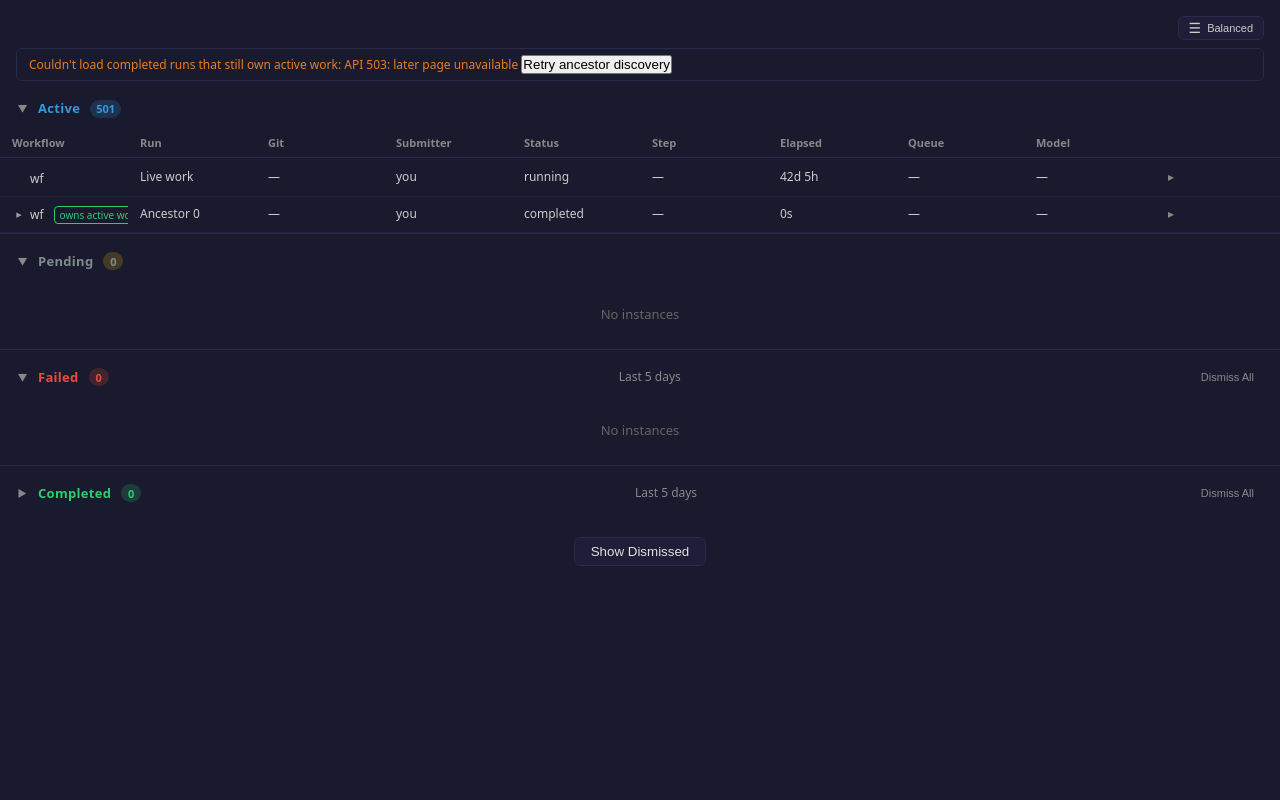
Test: QueueView — completed ancestors that own active independent work stay discoverable (P4-T10) › keeps discovered rows and ordinary work when a later page fails, then retries discovery
Expected: the message with test id "ancestor-warning" shows "later page unavailable", [29,56,518,73]
Click the button "Retry ancestor discovery" at (597, 64), box [521,55,672,74]
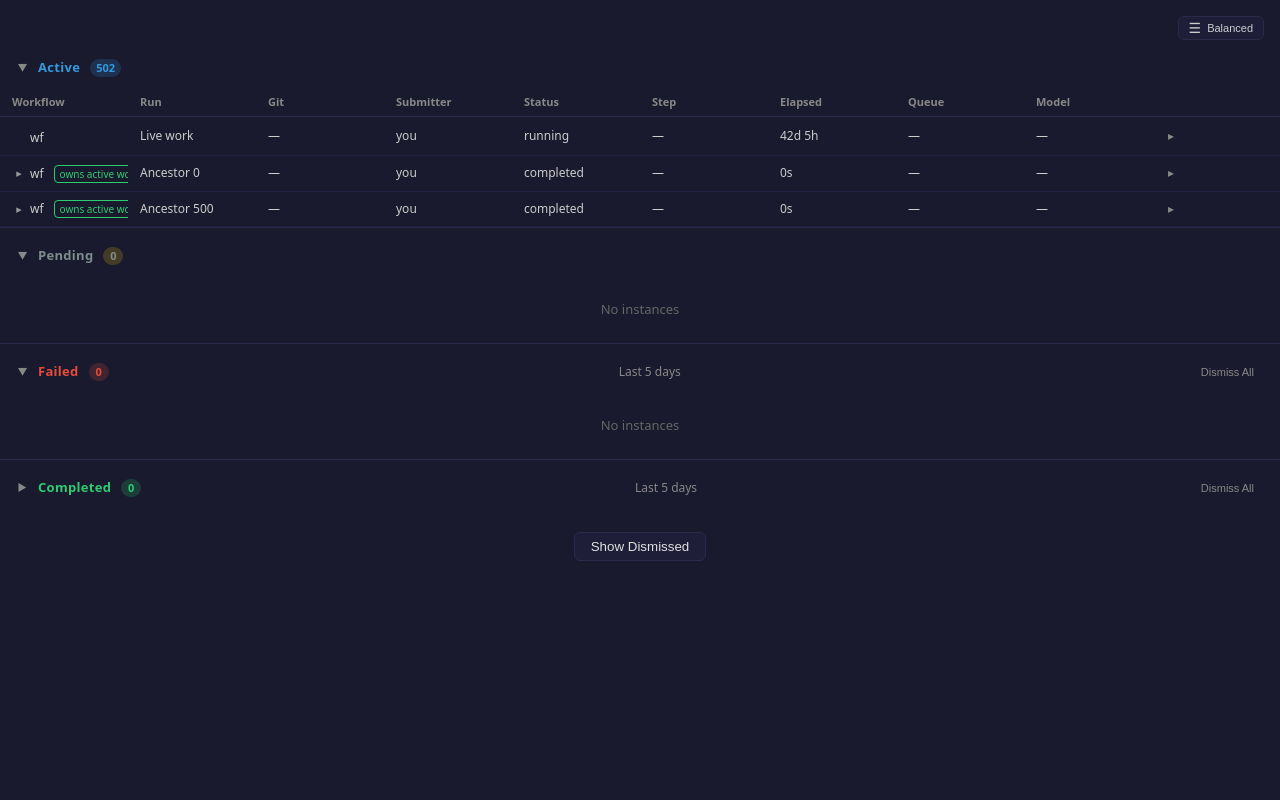
Now the message with test id "ancestor-warning" is gone
